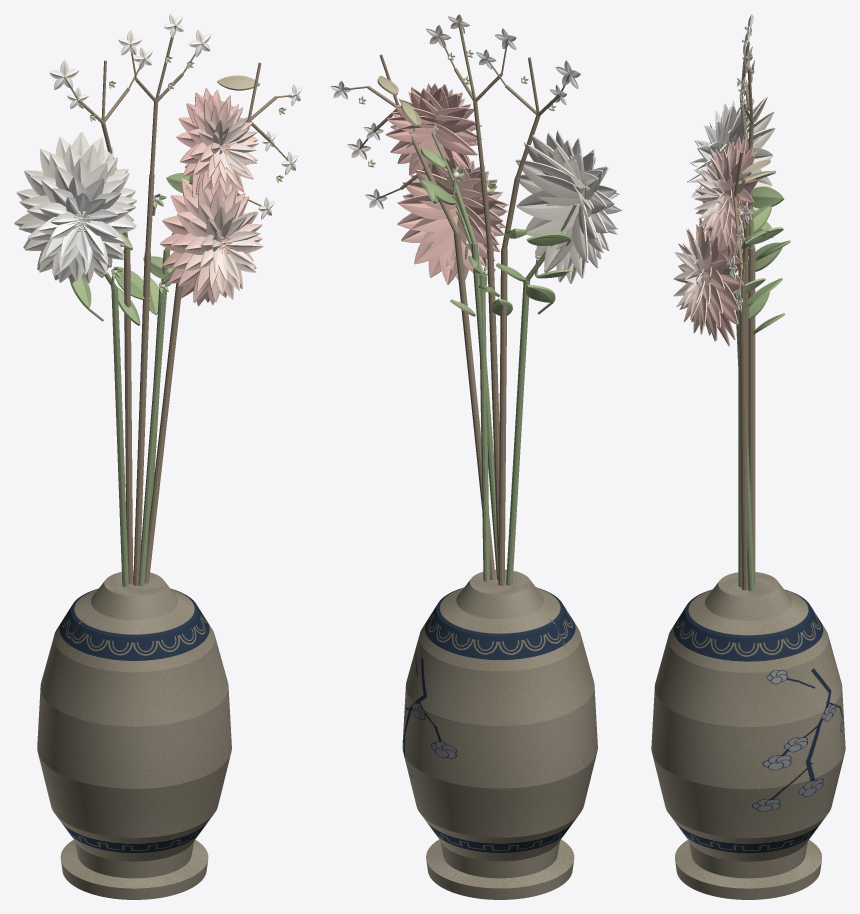
File: flower_vase_arrangement_colored.glb
3 renders of one model, left to right at view 1: azimuth 30°, elevation 25°; view 2: azimuth 150°, elevation 25°; view 3: azimuth 270°, elevation 25°, orthographic.
Visible parts, largest first — view 1: vase, stem_branchC, white_peony_2, white_peony_3, white_peony_1, stem_branchL, white_peony_0, pink_peony1_2, stem_branchR, stem_white, white_peony_4, pink_peony1_3 (+10 smaller); view 2: vase, white_peony_4, pink_peony1_4, pink_peony2_4, stem_branchL, stem_branchC, stem_branchR, stem_white, stem_pink1, stem_pink2, white_peony_3, white_peony_2 (+1 smaller); view 3: vase, stem_branchR, stem_branchL, white_peony_4, pink_peony1_4, pink_peony1_3, pink_peony1_2, pink_peony2_4, stem_branchC, pink_peony2_3, stem_pink1, pink_peony1_0 (+9 smaller).
Part boxes in pixels (x1,y1,x2,y2): vase: (37,570,231,899); stem_branchC: (133,26,176,585); white_peony_2: (27,158,135,281); white_peony_3: (19,144,136,283); white_peony_1: (37,176,128,274); stem_branchL: (101,60,133,584); white_peony_0: (50,192,118,263); pink_peony1_2: (184,187,262,302); stem_branchR: (144,62,261,583); stem_white: (104,272,128,586); white_peony_4: (14,132,135,282); pink_peony1_3: (171,182,253,305); vase: (402,569,597,899); white_peony_4: (515,132,596,283); pink_peony1_4: (397,157,503,284); pink_peony2_4: (385,87,481,179); stem_branchL: (498,57,540,585); stem_branchC: (458,22,504,580); stem_branchR: (379,54,495,579); stem_white: (506,203,576,585); stem_pink1: (456,211,489,581); stem_pink2: (431,132,498,579); white_peony_3: (556,130,607,268); white_peony_2: (572,138,617,259); vase: (651,572,845,899); stem_branchR: (733,151,747,590); stem_branchL: (739,41,755,582); white_peony_4: (729,96,774,222); pink_peony1_4: (695,220,744,346); pink_peony1_3: (701,229,727,341); pink_peony1_2: (690,218,711,334); pink_peony2_4: (717,137,757,257); stem_branchC: (743,58,753,446); pink_peony2_3: (708,141,745,251); stem_pink1: (732,291,754,591); pink_peony1_0: (673,243,701,307).
Bounding box in the file's own units: 0.9647 × 2.78 × 0.58.
41 materials, 1 textured.
